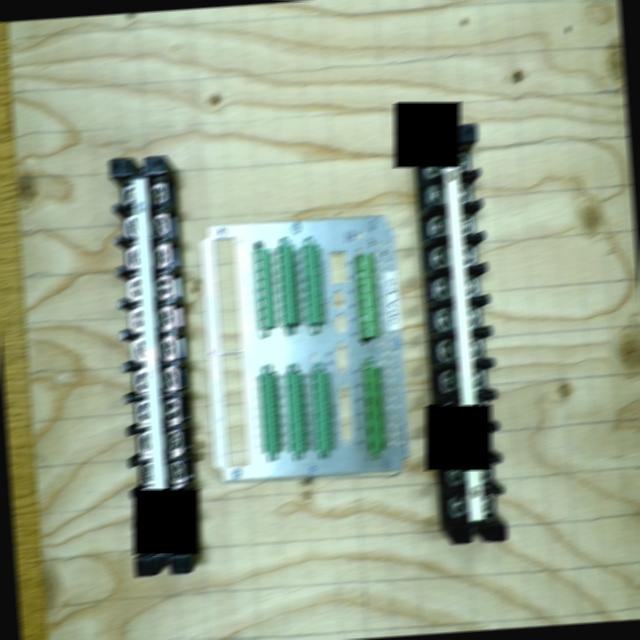Flathead_Block: (421, 123, 508, 544)
Phillips_Block: (108, 155, 192, 576)
Terminal_1: (354, 252, 379, 337), (362, 366, 386, 451)
Terminal_2: (309, 371, 333, 451), (257, 373, 281, 453), (300, 244, 324, 323), (283, 373, 307, 452), (275, 245, 299, 324)
